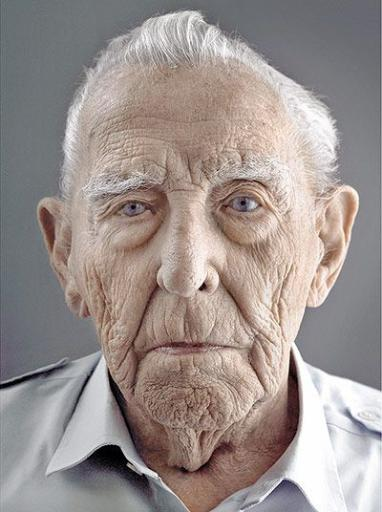left_eye: (220, 194, 272, 219)
left_lip_corner: (216, 337, 250, 361)
right_eye: (110, 199, 159, 224)
right_lip_corner: (141, 341, 163, 362)
